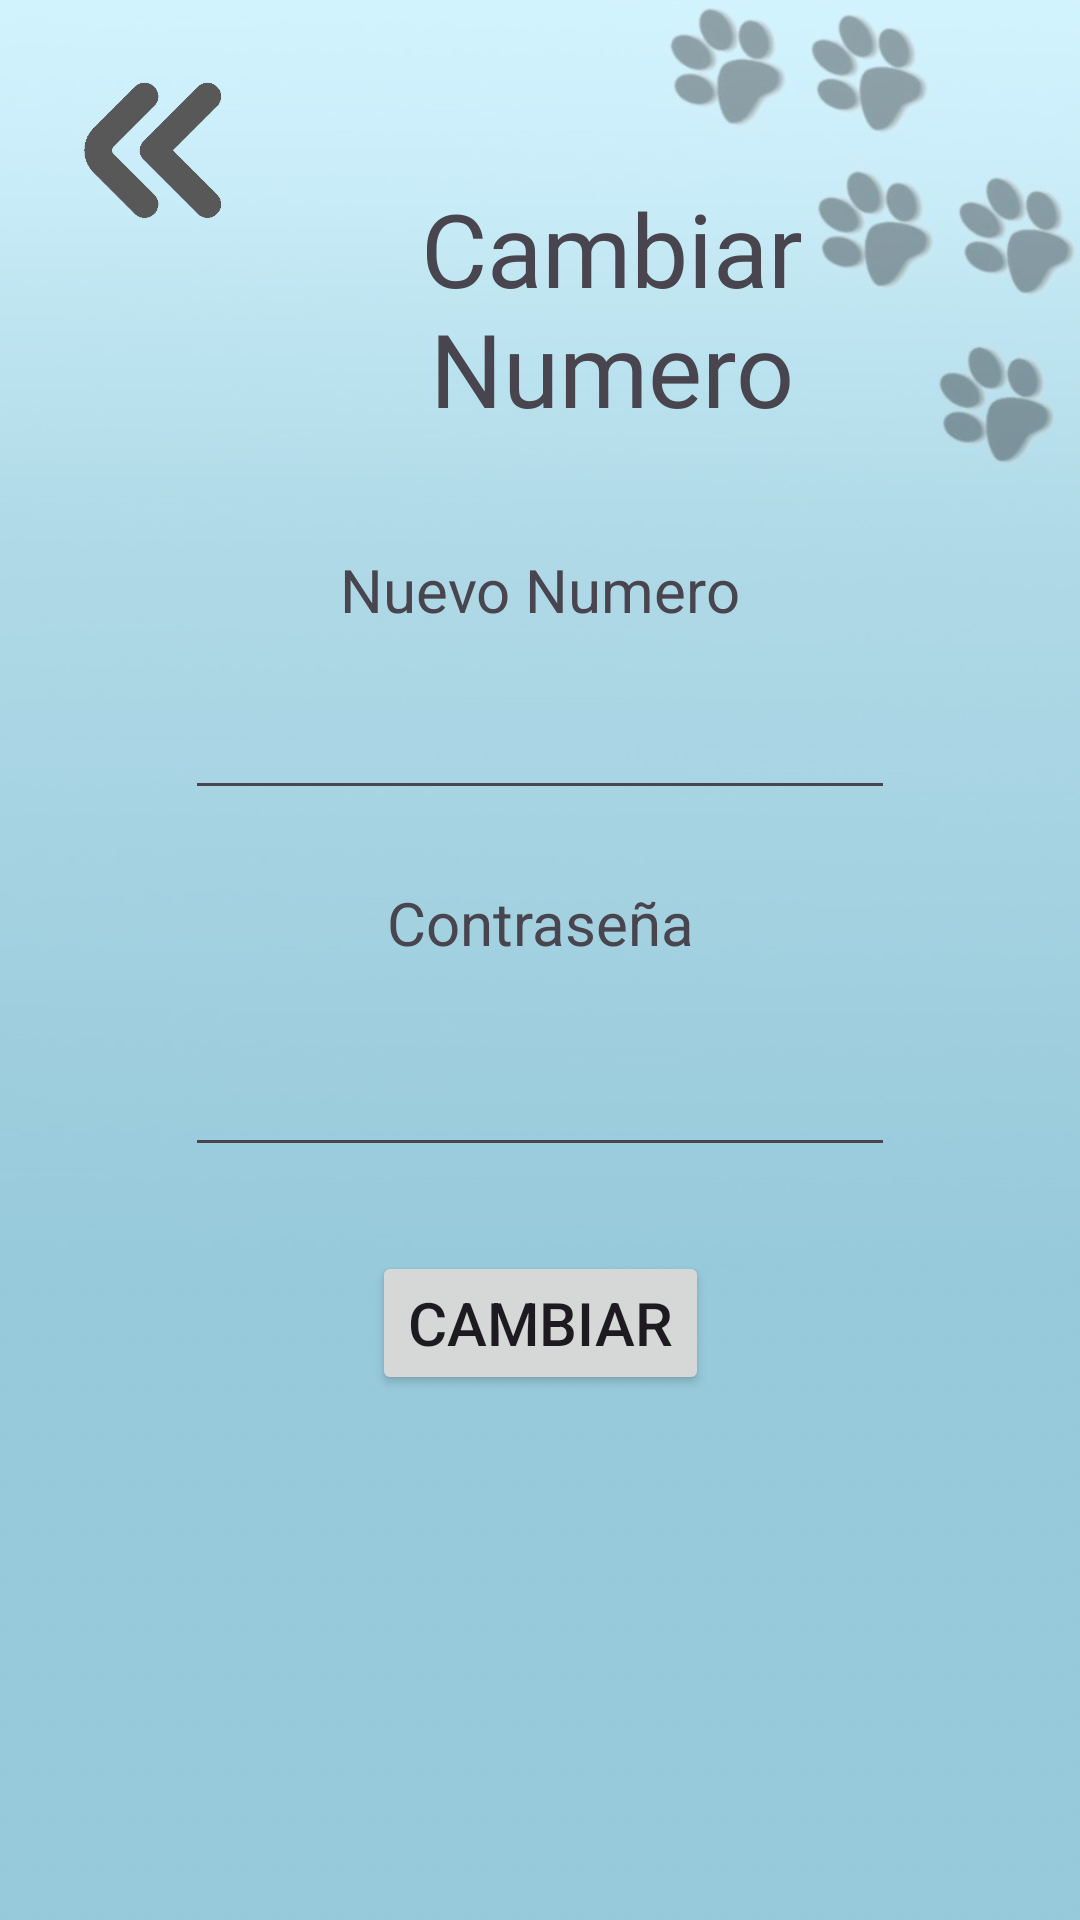

Screen size 1080px x 1920px. Icon name, then its box in pixels as rect(x1, y1, x2, y2):
regresar: rect(84, 83, 221, 218)
